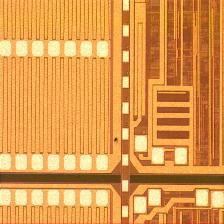PIQ PARTICLE: (111, 135, 123, 147)
